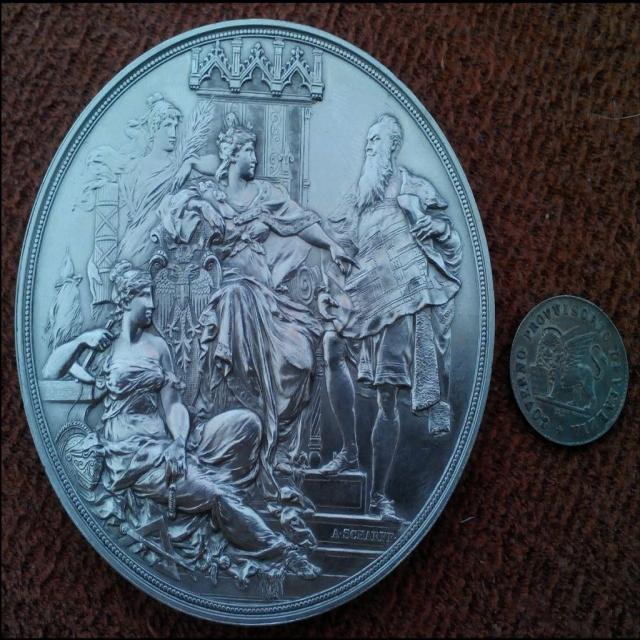Coin: (17, 15, 496, 629), (504, 293, 631, 450)
